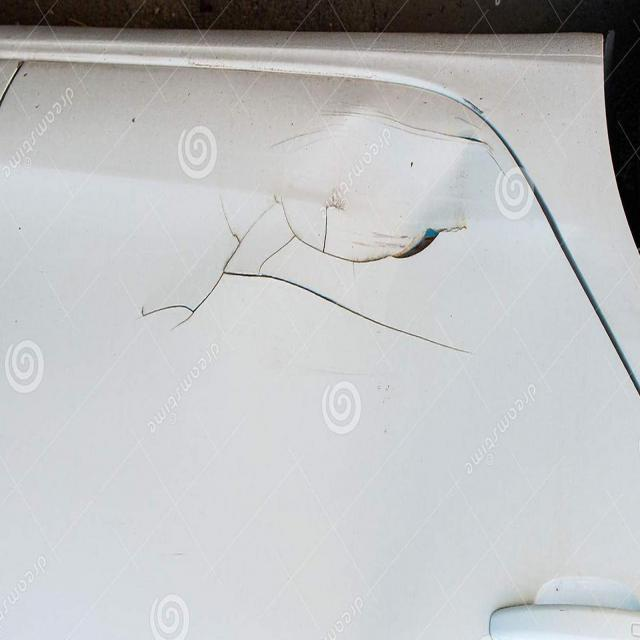dent: (135, 88, 510, 374)
